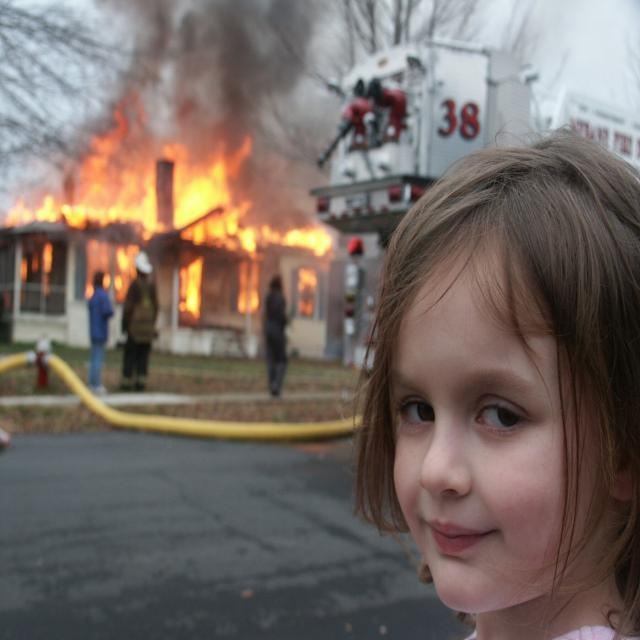Fire: (6, 90, 250, 229), (188, 221, 335, 253), (88, 244, 138, 300), (22, 243, 54, 300), (178, 261, 205, 318), (238, 262, 260, 314), (300, 267, 317, 316)
Smoke: (108, 1, 320, 136), (250, 92, 328, 216)
